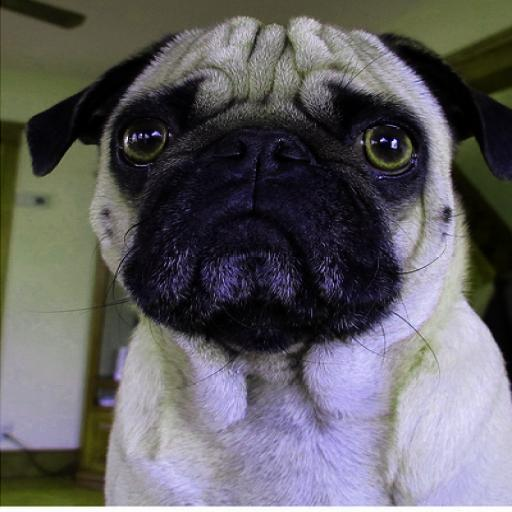dog_face: (23, 22, 512, 357)
